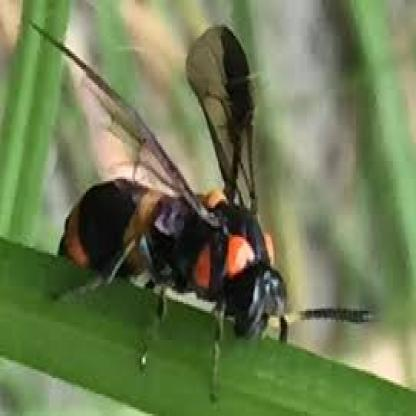sawfly: (25, 26, 374, 401)
